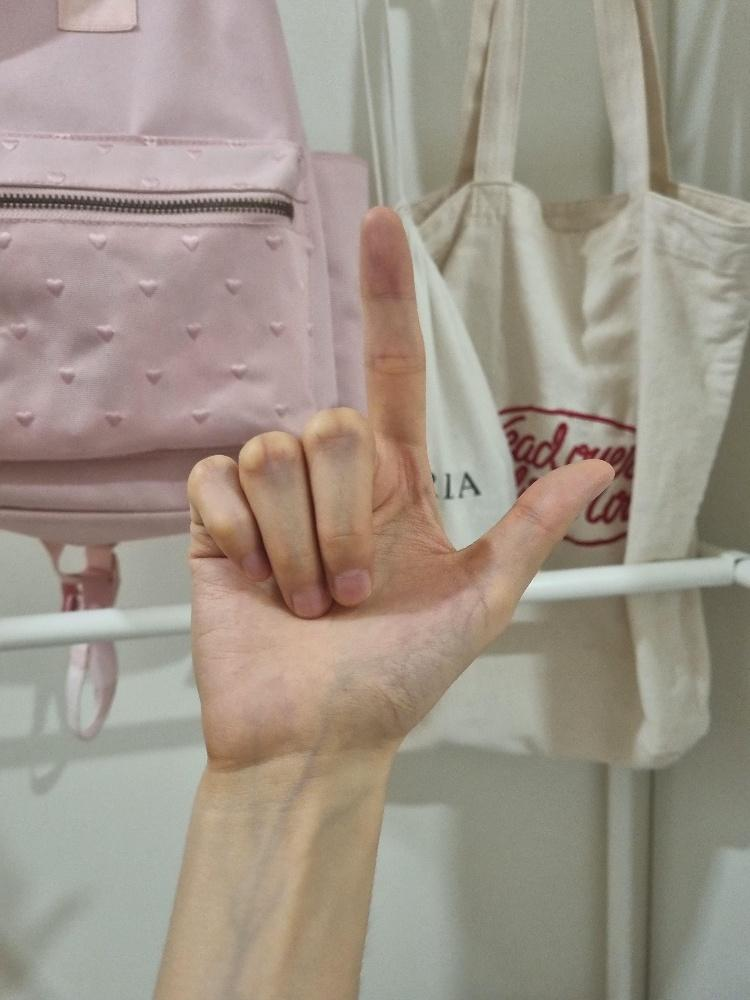l: (185, 205, 616, 769)
